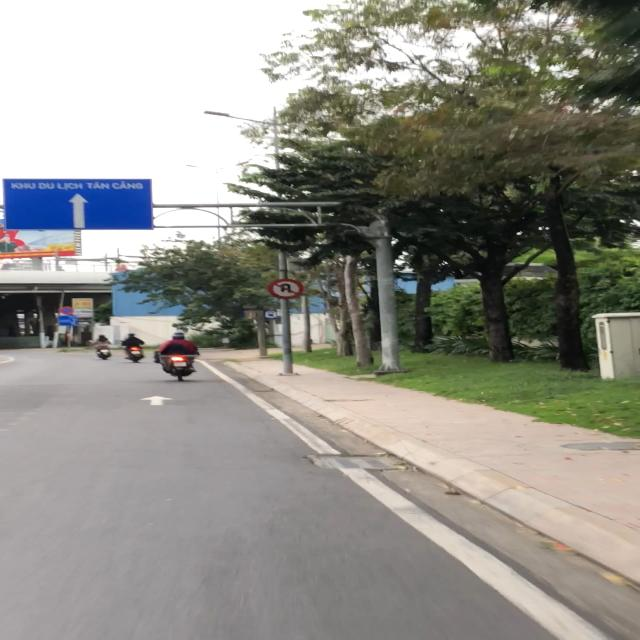Bien bao cam quay dau xe: (266, 278, 304, 299)
